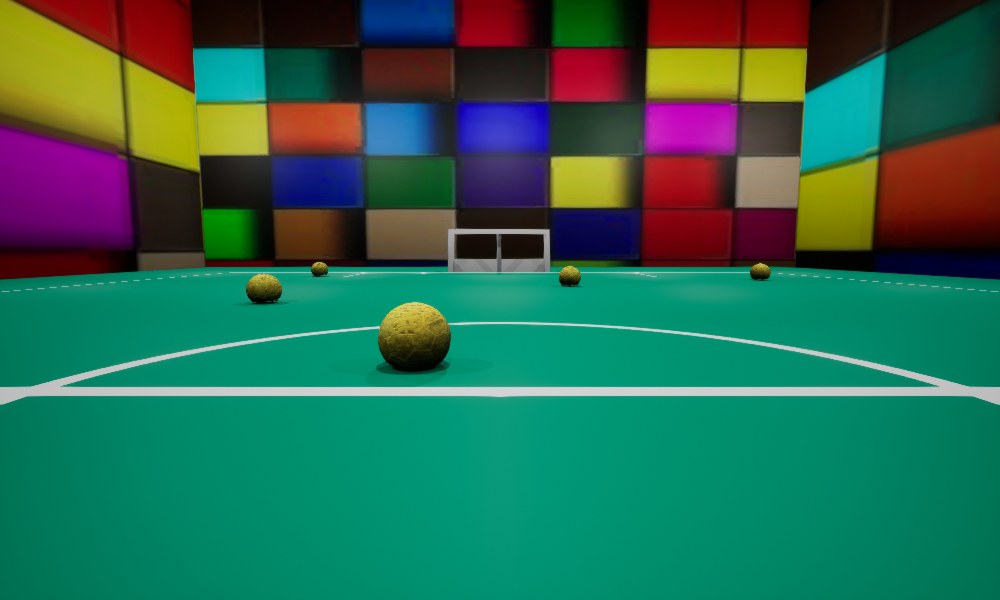b: (378, 302, 450, 368), (246, 274, 281, 303), (559, 266, 580, 285), (750, 263, 770, 279), (311, 262, 327, 275)
g: (448, 229, 549, 271)
